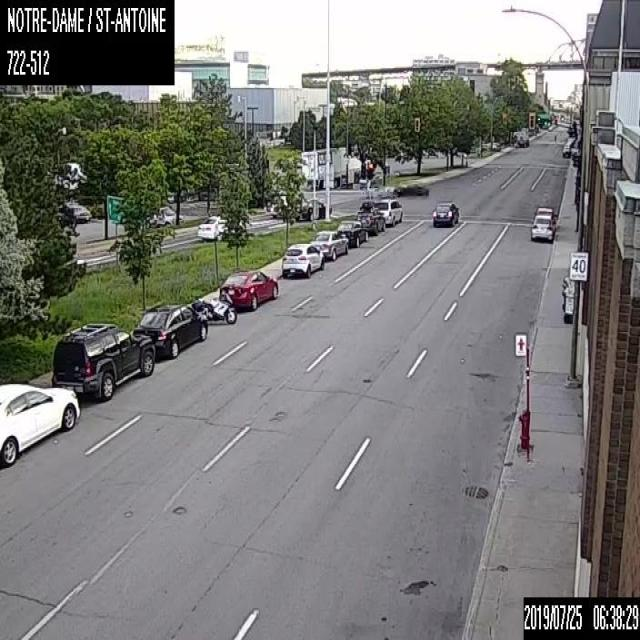cyclist: (554, 132, 556, 142)
vehicle: (51, 321, 154, 400), (0, 382, 80, 465), (132, 303, 208, 357), (299, 145, 376, 188), (218, 269, 278, 309), (356, 197, 402, 234), (190, 290, 236, 323), (282, 242, 324, 278), (309, 229, 348, 259), (295, 195, 331, 221), (143, 204, 183, 226), (196, 212, 227, 239), (337, 219, 368, 246), (57, 200, 91, 223), (432, 198, 458, 226), (530, 213, 556, 241), (532, 205, 557, 230), (265, 194, 288, 217), (562, 147, 571, 158)
